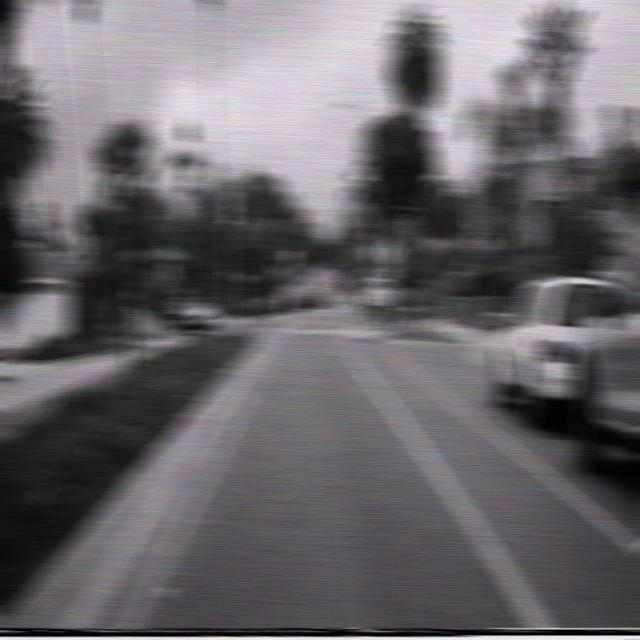pedestrianCrossing: (376, 234, 402, 267)
yield: (362, 244, 381, 264), (281, 250, 299, 267)
